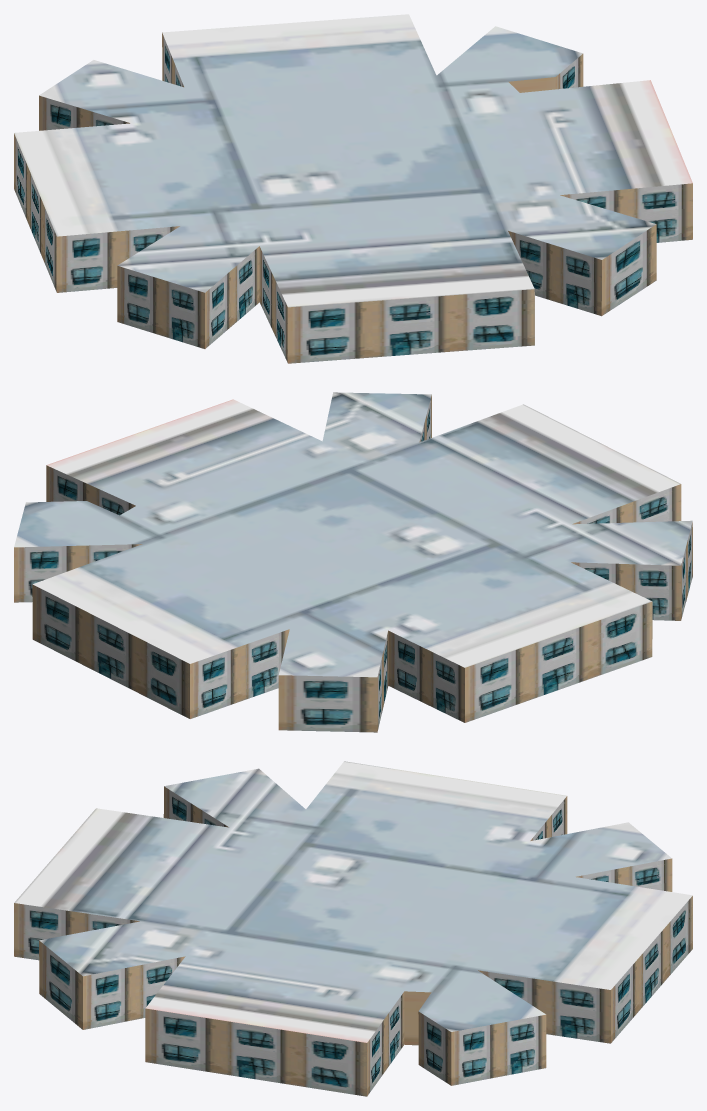
The model's file is Building_Farris.fbx.
The picture shows the model from 3 angles, top to bottom: view 1: azimuth 30°, elevation 25°; view 2: azimuth 150°, elevation 25°; view 3: azimuth 270°, elevation 25°; orthographic projection. The views are drawn at different scales.
Parts seen in each view (by area): view 1: Building_Farris; view 2: Building_Farris; view 3: Building_Farris.
Boxes of the visible parts, left/top/right/bottom form: Building_Farris: left=14, top=14, right=692, bottom=363; Building_Farris: left=14, top=392, right=692, bottom=732; Building_Farris: left=14, top=761, right=692, bottom=1096.
Size of the model in its own units: 6788 by 605 by 6914.
Materials: 1 (1 with a texture image).
